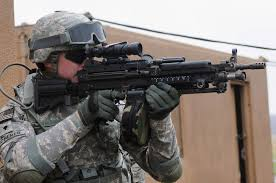gun: (31, 41, 265, 124)
